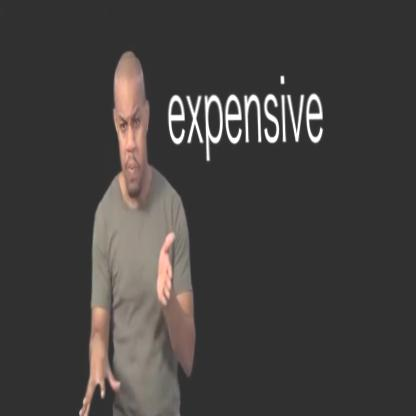Expensive: (72, 226, 182, 416)
